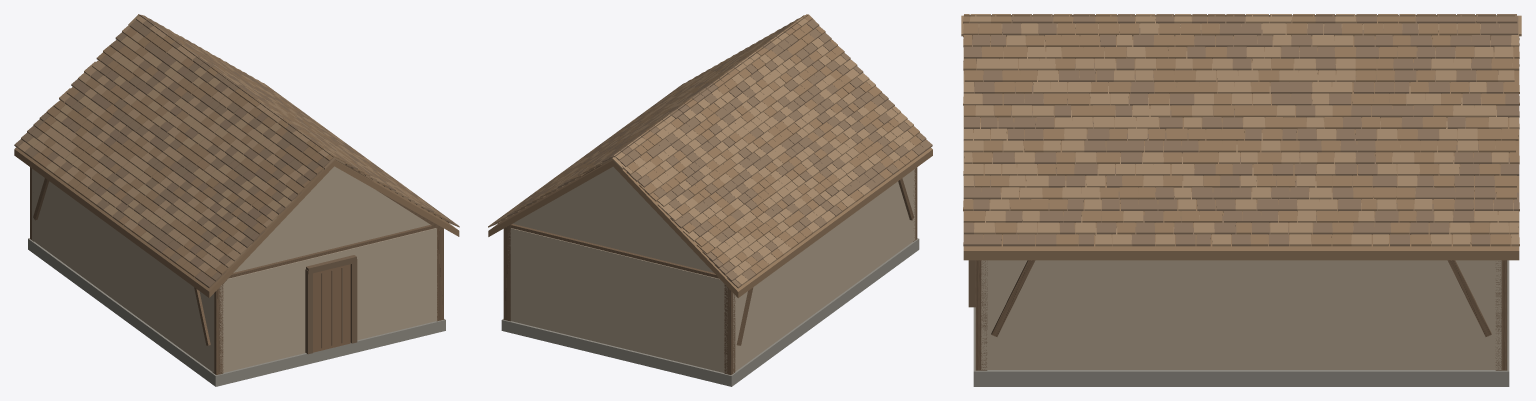
The model's file is beam_C_procedural.glb.
The picture shows the model from 3 angles, left to right: view 1: azimuth 30°, elevation 25°; view 2: azimuth 150°, elevation 25°; view 3: azimuth 270°, elevation 25°; orthographic projection. The views are drawn at different scales.
Parts seen in each view (by area): view 1: 09A_ShingleField.003, 08A_SideClay.006, 08A_GableClay.006, 08A_FrontClay.006, 08A_FrontClay.007, 08A_Sill.003, 09A_Deck.006, 08A_Door.003, 09A_Deck.007, 08A_EndWallPlate.006, 08A_CornerPost.012, 08A_DoorJamb.006 (+3 smaller); view 2: 09A_ShingleField.003, 08A_RearClay.003, 08A_SideClay.006, 08A_GableClay.007, 08A_Sill.003, 09A_Deck.006, 09A_Deck.007, 08A_EndWallPlate.007, 08A_CornerPost.013, 08A_CornerPost.015; view 3: 09A_ShingleField.003, 08A_SideClay.007, 09A_Deck.007, 08A_Sill.003, 08A_CornerPost.014, 08A_CornerPost.015, 08A_SideBrace.014, 08A_SideBrace.015.
Boxes of the visible parts, <box> form: 09A_ShingleField.003: <box>14,14,459,287</box>; 08A_SideClay.006: <box>32,168,214,372</box>; 08A_GableClay.006: <box>233,166,430,272</box>; 08A_FrontClay.006: <box>219,259,310,372</box>; 08A_FrontClay.007: <box>350,228,437,340</box>; 08A_Sill.003: <box>28,238,445,386</box>; 09A_Deck.006: <box>14,147,334,297</box>; 08A_Door.003: <box>313,264,350,352</box>; 09A_Deck.007: <box>334,160,459,236</box>; 08A_EndWallPlate.006: <box>228,225,435,278</box>; 08A_CornerPost.012: <box>212,284,223,374</box>; 08A_DoorJamb.006: <box>305,269,312,354</box>; 09A_ShingleField.003: <box>488,14,932,288</box>; 08A_RearClay.003: <box>508,228,727,373</box>; 08A_SideClay.006: <box>733,169,915,372</box>; 08A_GableClay.007: <box>513,166,713,272</box>; 08A_Sill.003: <box>501,238,919,386</box>; 09A_Deck.006: <box>613,148,932,297</box>; 09A_Deck.007: <box>488,159,613,236</box>; 08A_EndWallPlate.007: <box>511,224,719,278</box>; 08A_CornerPost.013: <box>724,284,735,374</box>; 08A_CornerPost.015: <box>503,223,512,321</box>; 09A_ShingleField.003: <box>963,14,1519,246</box>; 08A_SideClay.007: <box>981,260,1501,369</box>; 09A_Deck.007: <box>963,36,1519,260</box>; 08A_Sill.003: <box>973,260,1509,386</box>; 08A_CornerPost.014: <box>975,260,987,370</box>; 08A_CornerPost.015: <box>1495,260,1507,370</box>; 08A_SideBrace.014: <box>991,260,1035,336</box>; 08A_SideBrace.015: <box>1447,260,1491,336</box>.
Size of the model in its own units: 5.78 by 4.53 by 7.87.
8 materials, 1 textured.
